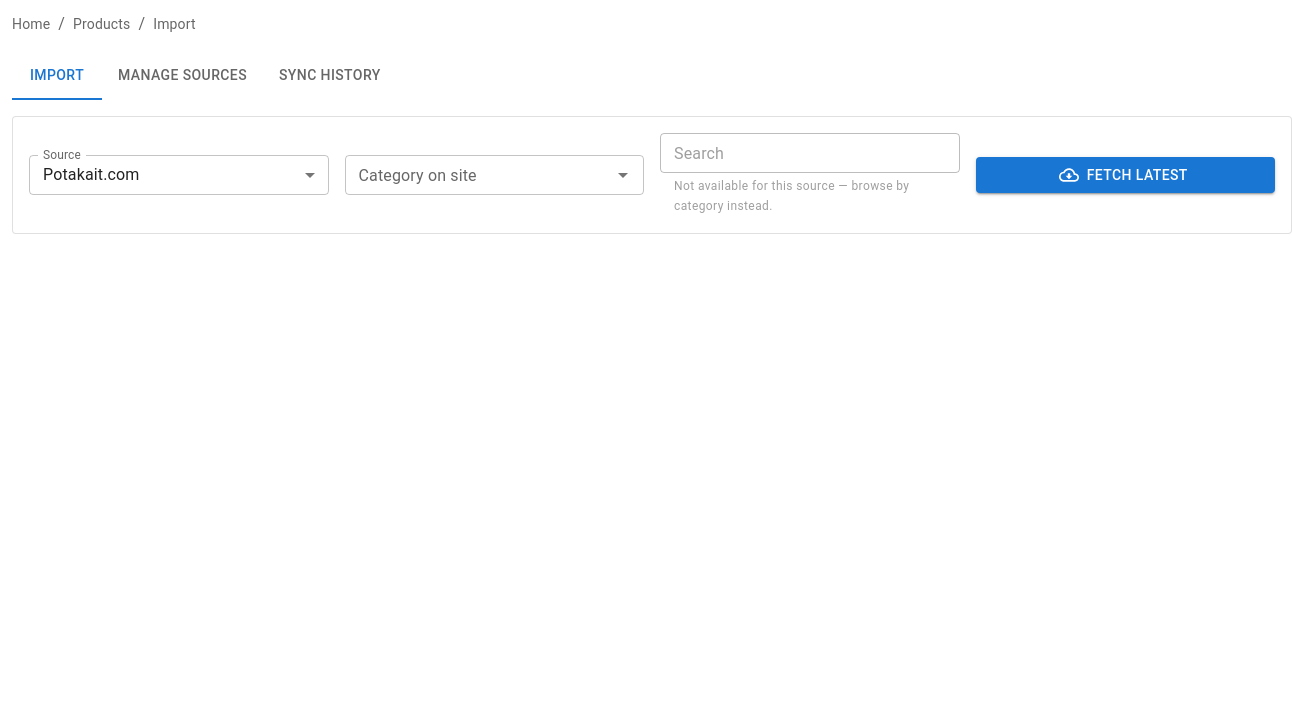
potakait has no search box -- browsing is by category only
Expected: the button "Fetch latest" is enabled, [976, 157, 1275, 193]
Expected: the text "Not available for this source — browse by category instead." is shown, [674, 177, 946, 217]
Press the mouse on the dropdown labelled "Category on site" at [478, 175], box [350, 161, 605, 189]
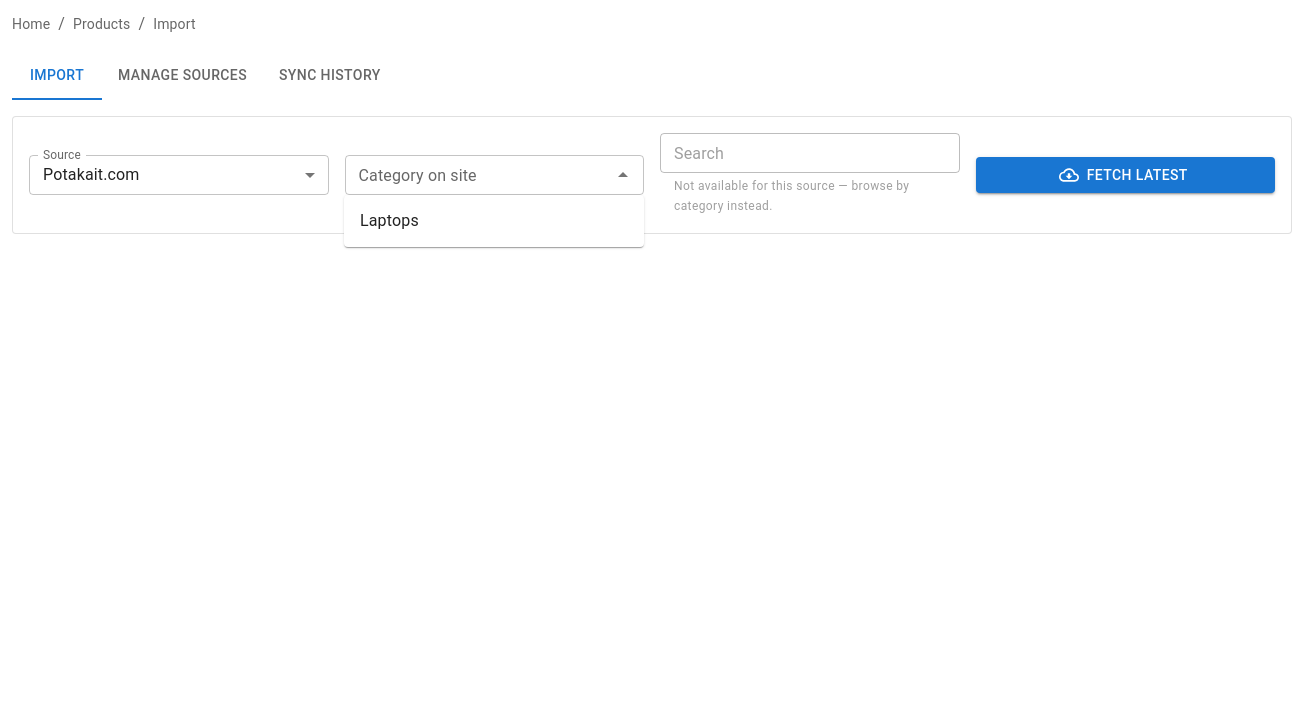
Click the option "Laptops" at [389, 220], box [360, 211, 419, 230]
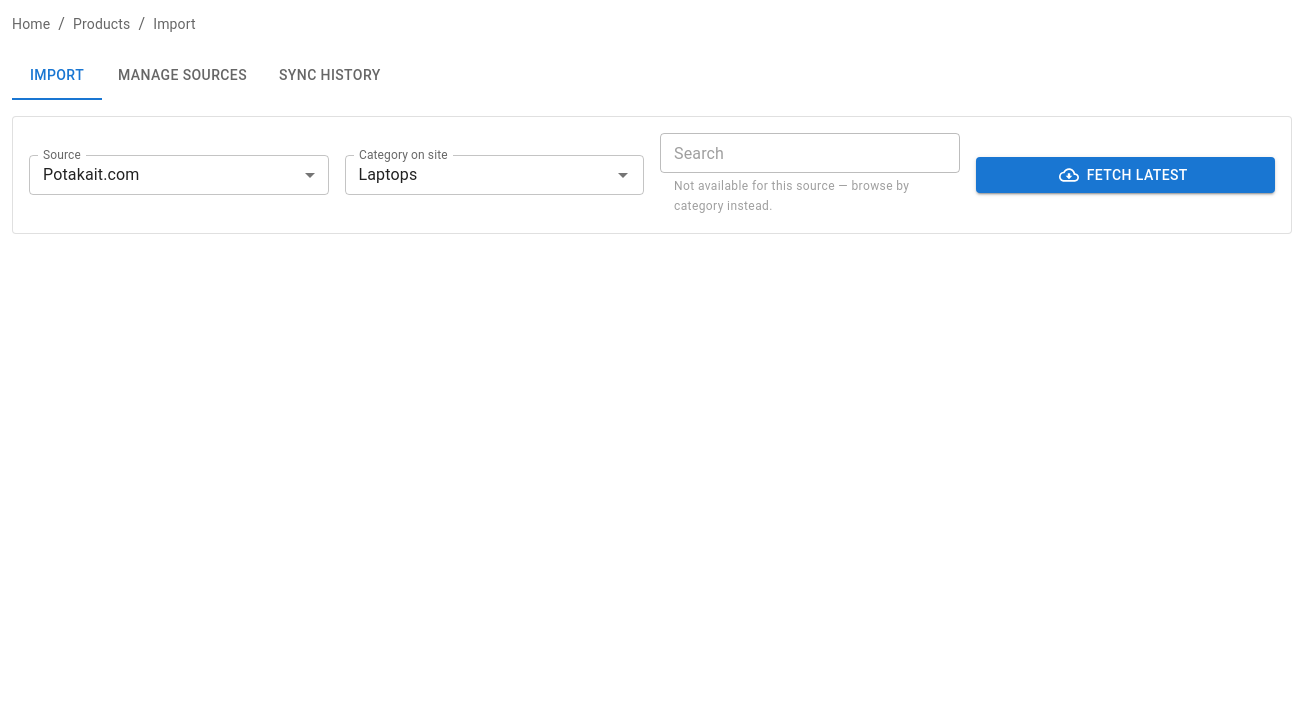
Click the button "Fetch latest" at [1125, 175], box [976, 157, 1275, 193]
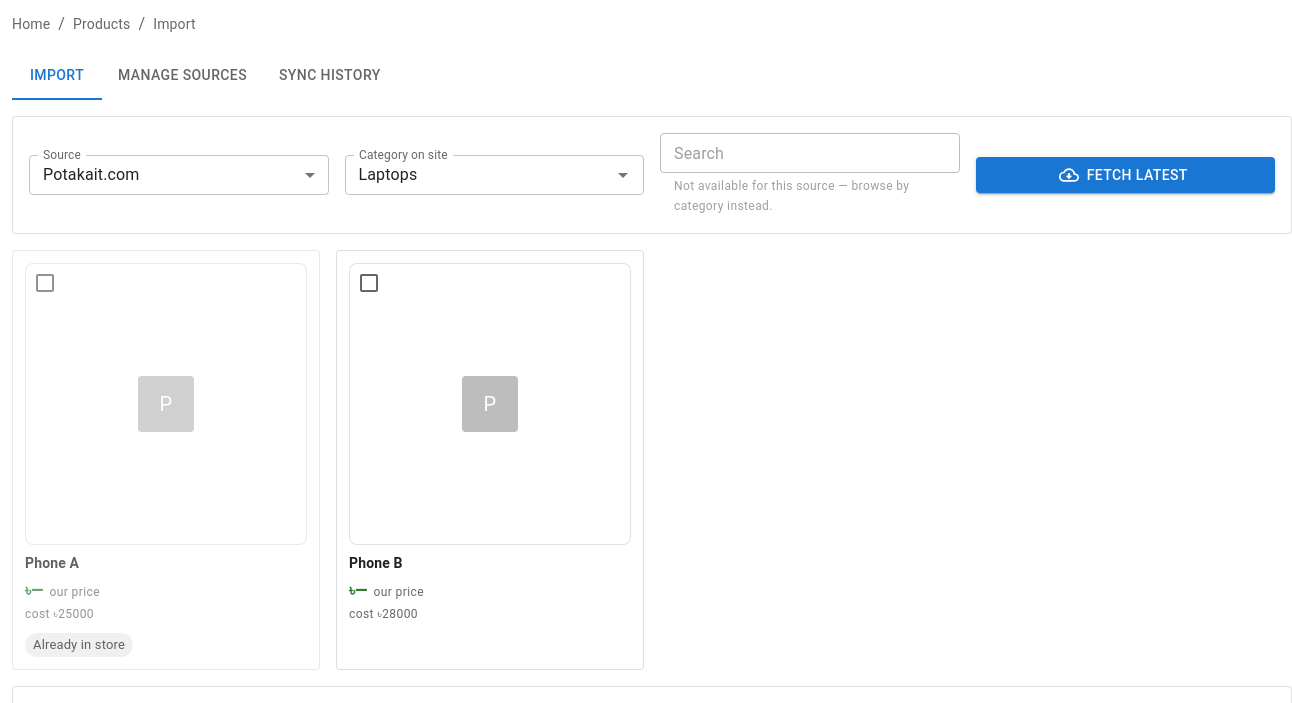
Now the text "Phone A" is shown, box [25, 555, 79, 571]
